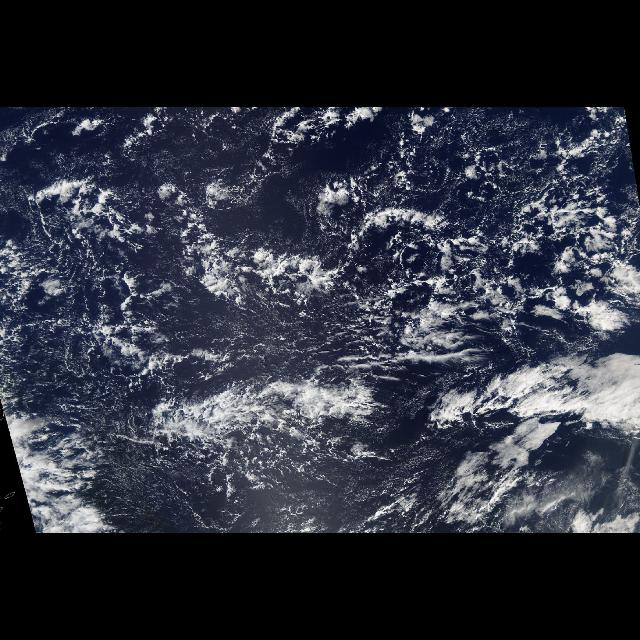Fish: (126, 347, 524, 481), (170, 179, 466, 307)
Gravel: (1, 115, 640, 378)
Sugar: (4, 121, 632, 223), (4, 232, 218, 422)
